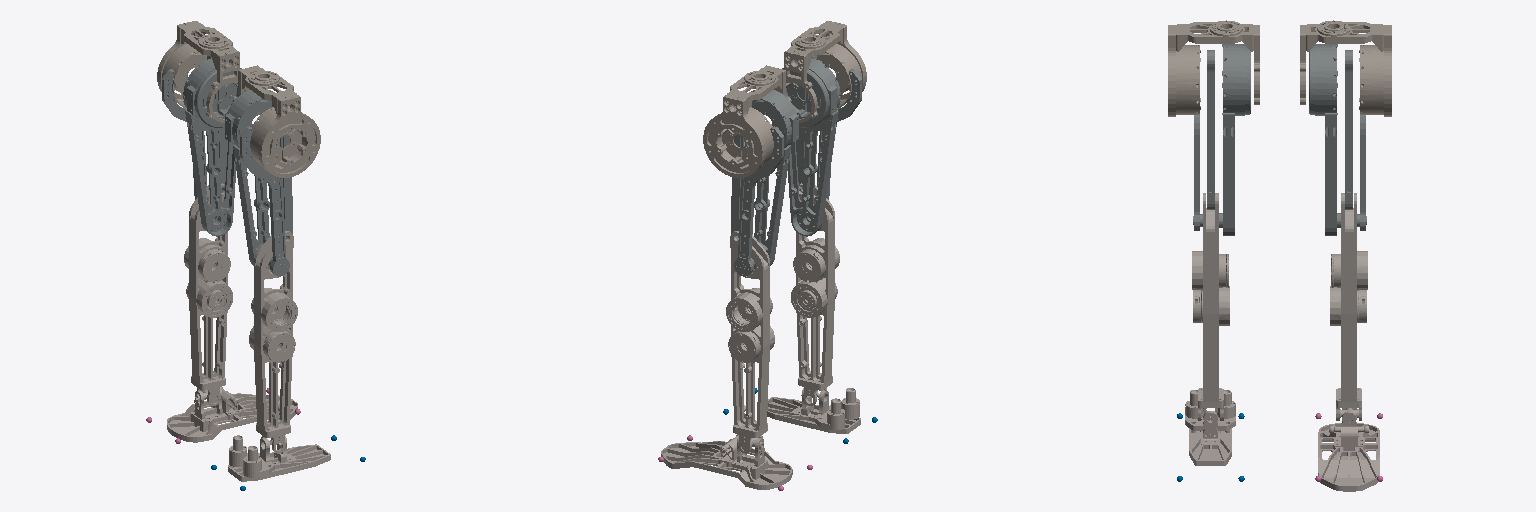
robot.urdf — biped_v3:
<?xml version="1.0" ?>
<!-- =================================================================================== -->
<!-- |    This document was autogenerated by xacro from [local-path]/workspace/kuavo-ros-control/src/humanoid-control/humanoid_interface_drake/models/biped_gen4.0/urdf/biped_v3.xacro | -->
<!-- |    EDITING THIS FILE BY HAND IS NOT RECOMMENDED                                 | -->
<!-- =================================================================================== -->
<robot name="biped_v3" xmlns:drake="https://drake.mit.edu">
  <link name="torso">
    <inertial>
      <origin rpy="0 0 0" xyz="0.00383143 0.0 0.18350901"/>
      <mass value="35.0676395"/>
      <inertia ixx="0.95851611" ixy="0.00026968" ixz="0.06381351" iyy="0.83635568" iyz="0.00069789" izz="0.29474019"/>
    </inertial>
    <visual>
      <origin rpy="0 0 0" xyz="0 0 0"/>
      <geometry>
        <mesh filename="../../meshes/torso.STL"/>
      </geometry>
      <material name="">
        <color rgba="0.43137 0.45098 0.43137 1"/>
      </material>
    </visual>
    <!-- <collision>
      <origin xyz="0 0 0" rpy="0 0 0" />
      <geometry>
        <mesh filename="../../meshes/torso.STL" />
      </geometry>
    </collision> -->
  </link>
  <link name="l_leg_roll">
    <inertial>
      <origin rpy="0 0 0" xyz="0.06614234 -0.00000119 -0.00862806"/>
      <mass value="1.53800733"/>
      <inertia ixx="0.00189451" ixy="-0.00000100" ixz="-0.00010566" iyy="0.00282649" iyz="-0.00000006" izz="0.00366404"/>
    </inertial>
    <visual>
      <origin rpy="0 0 0" xyz="0 0 0"/>
      <geometry>
        <mesh filename="../../meshes/l_leg_roll.STL"/>
      </geometry>
      <material name="">
        <color rgba="0.6902 0.65882 0.63922 1"/>
      </material>
    </visual>
  </link>
  <joint name="l_leg_roll_joint" type="continuous">
    <origin rpy="0 0 0" xyz="-0.139 0.088087 -0.065549"/>
    <parent link="torso"/>
    <child link="l_leg_roll"/>
    <axis xyz="1 0 0"/>
    <limit effort="100" lower="-0.78" upper="1.57" velocity="25"/>
  </joint>
  <!--        ssss -->
  <transmission type="SimpleTransmission">
    <joint name="l_leg_roll_joint"/>
    <actuator name="l_leg_roll_motor"/>
  </transmission>
  <!-- sssssssss -->
  <link name="l_leg_yaw">
    <inertial>
      <origin rpy="0 0 0" xyz="0.00000000 0.04610400 -0.13256100"/>
      <mass value="1.60096700"/>
      <inertia ixx="0.00698359" ixy="0.00000237" ixz="-0.00000315" iyy="0.00460736" iyz="-0.00105143" izz="0.00482586"/>
    </inertial>
    <visual>
      <origin rpy="0 0 0" xyz="0 0 0"/>
      <geometry>
        <mesh filename="../../meshes/l_leg_yaw.STL"/>
      </geometry>
      <material name="">
        <color rgba="0.65098 0.61961 0.58824 1"/>
      </material>
    </visual>
  </link>
  <joint name="l_leg_yaw_joint" type="continuous">
    <origin rpy="0 0 0" xyz="0.1365 -0.0010866 -0.033901"/>
    <parent link="l_leg_roll"/>
    <child link="l_leg_yaw"/>
    <axis xyz="0 0 1"/>
    <limit effort="100" lower="-1.57" upper="1.57" velocity="25"/>
  </joint>
  <!--        ssss -->
  <transmission type="SimpleTransmission">
    <joint name="l_leg_yaw_joint"/>
    <actuator name="l_leg_yaw_motor"/>
  </transmission>
  <!-- sssssssss -->
  <link name="l_leg_pitch">
    <inertial>
      <origin rpy="0 0 0" xyz="-0.00644903 -0.09813560 -0.05357606"/>
      <mass value="2.46657100"/>
      <inertia ixx="0.02261778" ixy="-0.00007906" ixz="-0.00029350" iyy="0.02315672" iyz="-0.00182962" izz="0.00415881"/>
    </inertial>
    <visual>
      <origin rpy="0 0 0" xyz="0 0 0"/>
      <geometry>
        <mesh filename="../../meshes/l_leg_pitch.STL"/>
      </geometry>
      <material name="">
        <color rgba="0.52941 0.54902 0.54902 1"/>
      </material>
    </visual>
  </link>
  <joint name="l_leg_pitch_joint" type="continuous">
    <origin rpy="0 0 0" xyz="0 0.094 -0.09"/>
    <parent link="l_leg_yaw"/>
    <child link="l_leg_pitch"/>
    <axis xyz="0 1 0"/>
    <limit effort="100" lower="-2.35" upper="0.78" velocity="47"/>
  </joint>
  <!--        ssss -->
  <transmission type="SimpleTransmission">
    <joint name="l_leg_pitch_joint"/>
    <actuator name="l_leg_pitch_motor"/>
  </transmission>
  <!-- sssssssss -->
  <link name="l_knee">
    <inertial>
      <origin rpy="0 0 0" xyz="0.00080045 -0.00004225 -0.12049699"/>
      <mass value="1.62911554"/>
      <inertia ixx="0.01343597" ixy="-0.00000234" ixz="0.00020391" iyy="0.01359234" iyz="0.00018311" izz="0.00092149"/>
    </inertial>
    <visual>
      <origin rpy="0 0 0" xyz="0 0 0"/>
      <geometry>
        <mesh filename="../../meshes/l_knee.STL"/>
      </geometry>
      <material name="">
        <color rgba="0.68627 0.65882 0.63922 1"/>
      </material>
    </visual>
  </link>
  <joint name="l_knee_pitch_joint" type="revolute">
    <origin rpy="0 0 0" xyz="0.004136 -0.06635 -0.24997"/>
    <parent link="l_leg_pitch"/>
    <child link="l_knee"/>
    <axis xyz="0 1 0"/>
    <limit effort="100" lower="0.0" upper="2.61" velocity="47"/>
  </joint>
  <!--        ssss -->
  <transmission type="SimpleTransmission">
    <joint name="l_knee_pitch_joint"/>
    <actuator name="l_knee_pitch_motor"/>
  </transmission>
  <!-- sssssssss -->
  <link name="l_foot_pitch">
    <inertial>
      <origin rpy="0 0 0" xyz="0.00000000 -0.02099982 0"/>
      <mass value="0.05444454"/>
      <inertia ixx="0.00000411" ixy="0.00000000" ixz="0.00000000" iyy="0.00000411" iyz="0.00000000" izz="0.00000728"/>
    </inertial>
    <visual>
      <origin rpy="0 0 0" xyz="0 0 0"/>
      <geometry>
        <mesh filename="../../meshes/l_foot_pitch.STL"/>
      </geometry>
      <material name="">
        <color rgba="0.6902 0.65882 0.63922 1"/>
      </material>
    </visual>
  </link>
  <joint name="l_foot_pitch_joint" type="continuous">
    <origin rpy="0 0 0" xyz="0 -0.0022 -0.346"/>
    <parent link="l_knee"/>
    <child link="l_foot_pitch"/>
    <axis xyz="0 1 0"/>
    <limit effort="100" lower="-1.57" upper="1.57" velocity="25"/>
  </joint>
  <transmission type="SimpleTransmission">
    <joint name="l_foot_pitch_joint"/>
    <actuator name="l_foot_pitch_motor"/>
  </transmission>
  <!-- sssssssss -->
  <link name="l_foot_roll">
    <inertial>
      <origin rpy="0 0 0" xyz="-0.03594832 0.00000978 -0.02713029"/>
      <mass value="0.46707519"/>
      <inertia ixx="0.00040711" ixy="0.00000016" ixz="-0.00023147" iyy="0.00127525" iyz="-0.00000006" izz="0.00135360"/>
    </inertial>
    <visual>
      <origin rpy="0 0 0" xyz="0 0 0"/>
      <geometry>
        <mesh filename="../../meshes/l_foot_roll.STL"/>
      </geometry>
      <material name="">
        <color rgba="0.6902 0.65882 0.63922 1"/>
      </material>
    </visual>
    <visual>
      <origin rpy="0 0 0" xyz="-0.09 0.05 -0.0465"/>
      <geometry>
        <sphere radius="0.005"/>
      </geometry>
    </visual>
    <collision>
      <origin rpy="0 0 0" xyz="-0.09 0.05 -0.0465"/>
      <geometry>
        <sphere radius="0.005"/>
      </geometry>
    </collision>
    <visual>
      <origin rpy="0 0 0" xyz="-0.09 -0.05 -0.0465"/>
      <geometry>
        <sphere radius="0.005"/>
      </geometry>
    </visual>
    <collision>
      <origin rpy="0 0 0" xyz="-0.09 -0.05 -0.0465"/>
      <geometry>
        <sphere radius="0.005"/>
      </geometry>
    </collision>
    <visual>
      <origin rpy="0 0 0" xyz="0.15 0.05 -0.0465"/>
      <geometry>
        <sphere radius="0.005"/>
      </geometry>
    </visual>
    <collision>
      <origin rpy="0 0 0" xyz="0.15 0.05 -0.0465"/>
      <geometry>
        <sphere radius="0.005"/>
      </geometry>
    </collision>
    <visual>
      <origin rpy="0 0 0" xyz="0.15 -0.05 -0.0465"/>
      <geometry>
        <sphere radius="0.005"/>
      </geometry>
    </visual>
    <collision>
      <origin rpy="0 0 0" xyz="0.15 -0.05 -0.0465"/>
      <geometry>
        <sphere radius="0.005"/>
      </geometry>
    </collision>
  </link>
  <joint name="l_foot_roll_joint" type="continuous">
    <origin rpy="0 0 0" xyz="0 0 0"/>
    <parent link="l_foot_pitch"/>
    <child link="l_foot_roll"/>
    <axis xyz="1 0 0"/>
    <limit effort="100" lower="-1.39" upper="0.78" velocity="25"/>
  </joint>
  <transmission type="SimpleTransmission">
    <joint name="l_foot_roll_joint"/>
    <actuator name="l_foot_roll_motor"/>
  </transmission>
  <!-- sssssssss -->
  <frame link="l_foot_roll" name="l_foot_sole" xyz="0.03 0.0 -0.0465"/>
  <frame link="l_foot_roll" name="l_foot_toe" xyz="0.15 0.0 -0.0465"/>
  <frame link="l_foot_roll" name="l_foot_heel" xyz="-0.09 0.0 -0.0465"/>
  <link name="r_leg_roll">
    <inertial>
      <origin rpy="0 0 0" xyz="0.06614233 0.00000119 -0.00862806"/>
      <mass value="1.53800714"/>
      <inertia ixx="0.00189451" ixy="0.00000100" ixz="-0.00010566" iyy="0.00282648" iyz="0.00000006" izz="0.00366404"/>
    </inertial>
    <visual>
      <origin rpy="0 0 0" xyz="0 0 0"/>
      <geometry>
        <mesh filename="../../meshes/r_leg_roll.STL"/>
      </geometry>
      <material name="">
        <color rgba="0.6902 0.65882 0.63922 1"/>
      </material>
    </visual>
  </link>
  <joint name="r_leg_roll_joint" type="continuous">
    <origin rpy="0 0 0" xyz="-0.139 -0.088087 -0.065549"/>
    <parent link="torso"/>
    <child link="r_leg_roll"/>
    <axis xyz="1 0 0"/>
    <limit effort="100" lower="-1.57" upper="0.78" velocity="25"/>
  </joint>
  <!--        ssss -->
  <transmission type="SimpleTransmission">
    <joint name="r_leg_roll_joint"/>
    <actuator name="r_leg_roll_motor"/>
  </transmission>
  <!-- sssssssss -->
  <link name="r_leg_yaw">
    <inertial>
      <origin rpy="0 0 0" xyz="0.00004661 -0.04610359 -0.13257364"/>
      <mass value="1.60096695"/>
      <inertia ixx="0.00520439" ixy="-0.00000302" ixz="-0.00000372" iyy="0.00397740" iyz="0.00063198" izz="0.00391648"/>
    </inertial>
    <visual>
      <origin rpy="0 0 0" xyz="0 0 0"/>
      <geometry>
        <mesh filename="../../meshes/r_leg_yaw.STL"/>
      </geometry>
      <material name="">
        <color rgba="0.650980392156863 0.619607843137255 0.588235294117647 1"/>
      </material>
    </visual>
  </link>
  <joint name="r_leg_yaw_joint" type="continuous">
    <origin rpy="0 0 0" xyz="0.1365 0.0010866 -0.033901"/>
    <parent link="r_leg_roll"/>
    <child link="r_leg_yaw"/>
    <axis xyz="0 0 1"/>
    <limit effort="100" lower="-1.57" upper="1.57" velocity="25"/>
  </joint>
  <!--        ssss -->
  <transmission type="SimpleTransmission">
    <joint name="r_leg_yaw_joint"/>
    <actuator name="r_leg_yaw_motor"/>
  </transmission>
  <!-- sssssssss -->
  <link name="r_leg_pitch">
    <inertial>
      <origin rpy="0 0 0" xyz="-0.00644903 0.09813560 -0.05357606"/>
      <mass value="2.46657141"/>
      <inertia ixx="0.02254838" ixy="0.00023457" ixz="0.00013808" iyy="0.02319666" iyz="0.00259984" izz="0.00432904"/>
    </inertial>
    <visual>
      <origin rpy="0 0 0" xyz="0 0 0"/>
      <geometry>
        <mesh filename="../../meshes/r_leg_pitch.STL"/>
      </geometry>
      <material name="">
        <color rgba="0.529411764705882 0.549019607843137 0.549019607843137 1"/>
      </material>
    </visual>
  </link>
  <joint name="r_leg_pitch_joint" type="continuous">
    <origin rpy="0 0 0" xyz="0 -0.094 -0.09"/>
    <parent link="r_leg_yaw"/>
    <child link="r_leg_pitch"/>
    <axis xyz="0 1 0"/>
    <limit effort="100" lower="-2.35" upper="0.78" velocity="47"/>
  </joint>
  <!--        ssss -->
  <transmission type="SimpleTransmission">
    <joint name="r_leg_pitch_joint"/>
    <actuator name="r_leg_pitch_motor"/>
  </transmission>
  <!-- sssssssss -->
  <link name="r_knee">
    <inertial>
      <origin rpy="0 0 0" xyz="0.00080045 0.00004225 -0.12049699"/>
      <mass value="1.62911540"/>
      <inertia ixx="0.01343597" ixy="0.00000234" ixz="0.00020391" iyy="0.01359234" iyz="-0.00018311" izz="0.00092149"/>
    </inertial>
    <visual>
      <origin rpy="0 0 0" xyz="0 0 0"/>
      <geometry>
        <mesh filename="../../meshes/r_knee.STL"/>
      </geometry>
      <material name="">
        <color rgba="0.686274509803922 0.658823529411765 0.63921568627451 1"/>
      </material>
    </visual>
  </link>
  <joint name="r_knee_pitch_joint" type="revolute">
    <origin rpy="0 0 0" xyz="0.004136 0.06635 -0.24997"/>
    <parent link="r_leg_pitch"/>
    <child link="r_knee"/>
    <axis xyz="0 1 0"/>
    <limit effort="100" lower="0.0" upper="2.61" velocity="47"/>
  </joint>
  <!--        ssss -->
  <transmission type="SimpleTransmission">
    <joint name="r_knee_pitch_joint"/>
    <actuator name="r_knee_pitch_motor"/>
  </transmission>
  <!-- sssssssss -->
  <link name="r_foot_pitch">
    <inertial>
      <origin rpy="0 0 0" xyz="0 0.02100018 0"/>
      <mass value="0.05444454"/>
      <inertia ixx="0.00000411" ixy="0" ixz="0" iyy="0.00000411" iyz="0" izz="0.00000728"/>
    </inertial>
    <visual>
      <origin rpy="0 0 0" xyz="0 0 0"/>
      <geometry>
        <mesh filename="../../meshes/r_foot_pitch.STL"/>
      </geometry>
      <material name="">
        <color rgba="0.690196078431373 0.658823529411765 0.63921568627451 1"/>
      </material>
    </visual>
  </link>
  <joint name="r_foot_pitch_joint" type="continuous">
    <origin rpy="0 0 0" xyz="0 0.0022 -0.346"/>
    <parent link="r_knee"/>
    <child link="r_foot_pitch"/>
    <axis xyz="0 1 0"/>
    <limit effort="100" lower="-1.57" upper="1.57" velocity="25"/>
  </joint>
  <!--        ssss -->
  <transmission type="SimpleTransmission">
    <joint name="r_foot_pitch_joint"/>
    <actuator name="r_foot_pitch_motor"/>
  </transmission>
  <!-- sssssssss -->
  <link name="r_foot_roll">
    <inertial>
      <origin rpy="0 0 0" xyz="-0.03594837 -0.00000972 -0.02713025"/>
      <mass value="0.46707428"/>
      <inertia ixx="0.00040710" ixy="-0.00000016" ixz="-0.00023147" iyy="0.00127525" iyz="0.00000006" izz="0.00135359"/>
    </inertial>
    <visual>
      <origin rpy="0 0 0" xyz="0 0 0"/>
      <geometry>
        <mesh filename="../../meshes/r_foot_roll.STL"/>
      </geometry>
      <material name="">
        <color rgba="0.690196078431373 0.658823529411765 0.63921568627451 1"/>
      </material>
    </visual>
    <visual>
      <origin rpy="0 0 0" xyz="-0.09 0.05 -0.0465"/>
      <geometry>
        <sphere radius="0.005"/>
      </geometry>
    </visual>
    <collision>
      <origin rpy="0 0 0" xyz="-0.09 0.05 -0.0465"/>
      <geometry>
        <sphere radius="0.005"/>
      </geometry>
    </collision>
    <visual>
      <origin rpy="0 0 0" xyz="-0.09 -0.05 -0.0465"/>
      <geometry>
        <sphere radius="0.005"/>
      </geometry>
    </visual>
    <collision>
      <origin rpy="0 0 0" xyz="-0.09 -0.05 -0.0465"/>
      <geometry>
        <sphere radius="0.005"/>
      </geometry>
    </collision>
    <visual>
      <origin rpy="0 0 0" xyz="0.15 0.05 -0.0465"/>
      <geometry>
        <sphere radius="0.005"/>
      </geometry>
    </visual>
    <collision>
      <origin rpy="0 0 0" xyz="0.15 0.05 -0.0465"/>
      <geometry>
        <sphere radius="0.005"/>
      </geometry>
    </collision>
    <visual>
      <origin rpy="0 0 0" xyz="0.15 -0.05 -0.0465"/>
      <geometry>
        <sphere radius="0.005"/>
      </geometry>
    </visual>
    <collision>
      <origin rpy="0 0 0" xyz="0.15 -0.05 -0.0465"/>
      <geometry>
        <sphere radius="0.005"/>
      </geometry>
    </collision>
  </link>
  <joint name="r_foot_roll_joint" type="continuous">
    <origin rpy="0 0 0" xyz="0 0 0"/>
    <parent link="r_foot_pitch"/>
    <child link="r_foot_roll"/>
    <axis xyz="1 0 0"/>
    <limit effort="100" lower="-1.39" upper="0.78" velocity="25"/>
  </joint>
  <!--        ssss -->
  <transmission type="SimpleTransmission">
    <joint name="r_foot_roll_joint"/>
    <actuator name="r_foot_roll_motor"/>
  </transmission>
  <!-- sssssssss -->
  <frame link="r_foot_roll" name="r_foot_sole" xyz="0.03 -0.0 -0.0465"/>
  <frame link="r_foot_roll" name="r_foot_toe" xyz="0.15 -0.0 -0.0465"/>
  <frame link="r_foot_roll" name="r_foot_heel" xyz="-0.09 -0.0 -0.0465"/>
</robot>

--- What the picture shows (computed from the rendered views, not written in the file) ---
The picture shows the robot from 3 angles, left to right: view 1: azimuth 30°, elevation 25°; view 2: azimuth 150°, elevation 25°; view 3: azimuth 270°, elevation 25°; orthographic projection.
Robot: biped_v3 — 13 links, 12 joints (2 revolute, 10 continuous); root link torso; default pose: every joint at zero.
Visible links, largest first — view 1: l_leg_pitch, r_knee, l_knee, r_leg_pitch, r_leg_yaw, l_leg_yaw, l_foot_roll, r_foot_roll; view 2: r_leg_pitch, l_knee, r_knee, l_leg_pitch, l_leg_yaw, l_foot_roll, r_leg_yaw, r_foot_roll; view 3: l_leg_pitch, r_leg_pitch, l_knee, r_knee, l_leg_yaw, r_leg_yaw, l_foot_roll, r_foot_roll.
Boxes of the visible links, x1,y1,x2,y2 form: l_leg_pitch: (162,56,249,236); r_knee: (249,231,297,453); l_knee: (184,183,232,405); r_leg_pitch: (225,90,292,276); r_leg_yaw: (233,65,320,177); l_leg_yaw: (157,21,248,122); l_foot_roll: (146,387,300,443); r_foot_roll: (211,435,365,490); r_leg_pitch: (774,56,861,236); l_knee: (726,231,774,453); r_knee: (791,183,839,405); l_leg_pitch: (731,90,798,276); l_leg_yaw: (703,65,790,177); l_foot_roll: (658,434,812,490); r_leg_yaw: (775,21,866,122); r_foot_roll: (723,388,877,443); l_leg_pitch: (1309,44,1366,235); r_leg_pitch: (1193,44,1250,235); l_knee: (1330,193,1367,420); r_knee: (1192,193,1229,420); l_leg_yaw: (1300,20,1391,116); r_leg_yaw: (1168,20,1259,116); l_foot_roll: (1315,408,1382,491); r_foot_roll: (1177,390,1244,481).
Size in the robot's own frame: 0.2658 by 0.362 by 0.752 metres.
Meshes: 13 distinct files referenced, 9 mesh visuals loaded (9 binary STL); not drawn: 4 (reference not matched to a file when rendering).